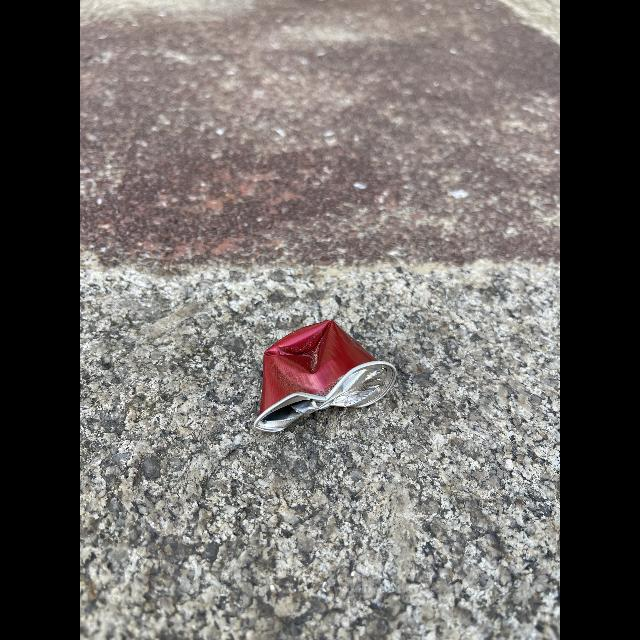damaged_capsule: (250, 304, 408, 442)
